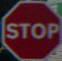Stop: (4, 1, 59, 50)
